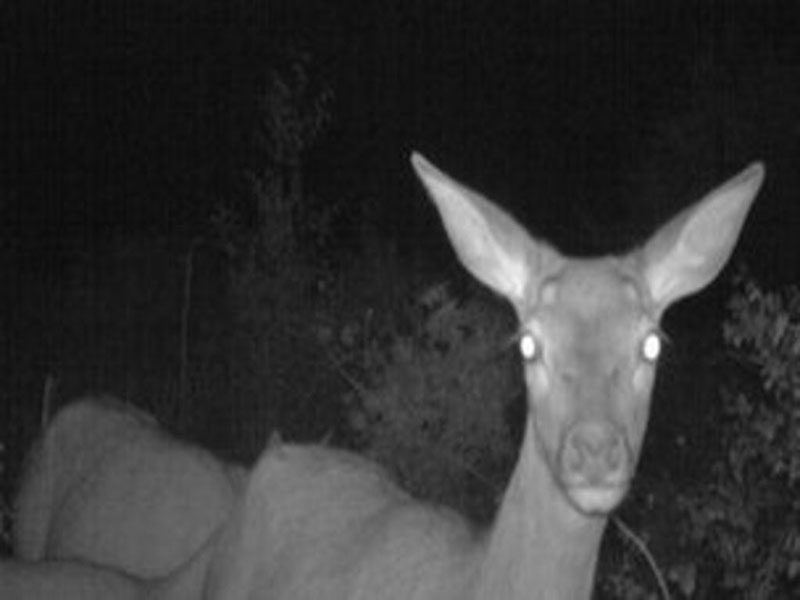cervo: (22, 160, 756, 596)
